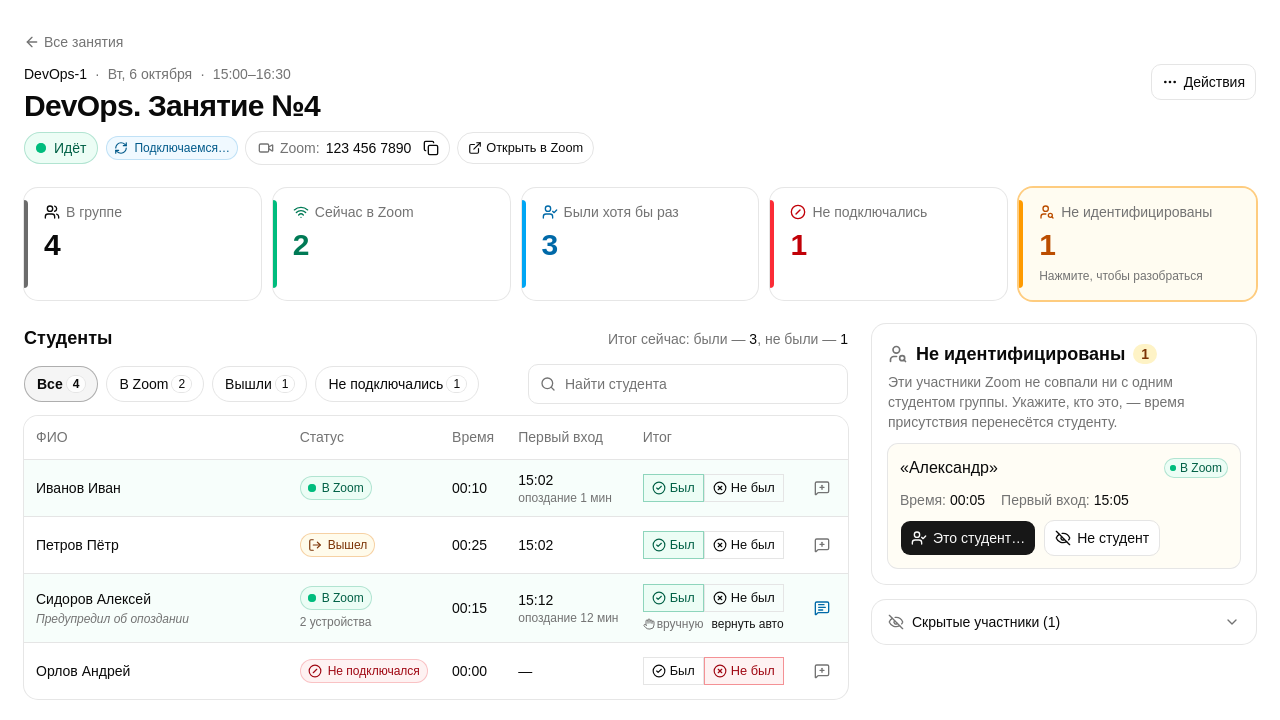
Test: LessonPage › returns a manual mark back to the automatic one
The width and height of the screenshot is (1280, 720).
Expected: the heading "DevOps. Занятие №4" is shown, [24, 89, 320, 122]
Click the button named "Вернуть автоматическую отметку: Сидоров Алексей" at (748, 624), box [712, 616, 784, 632]
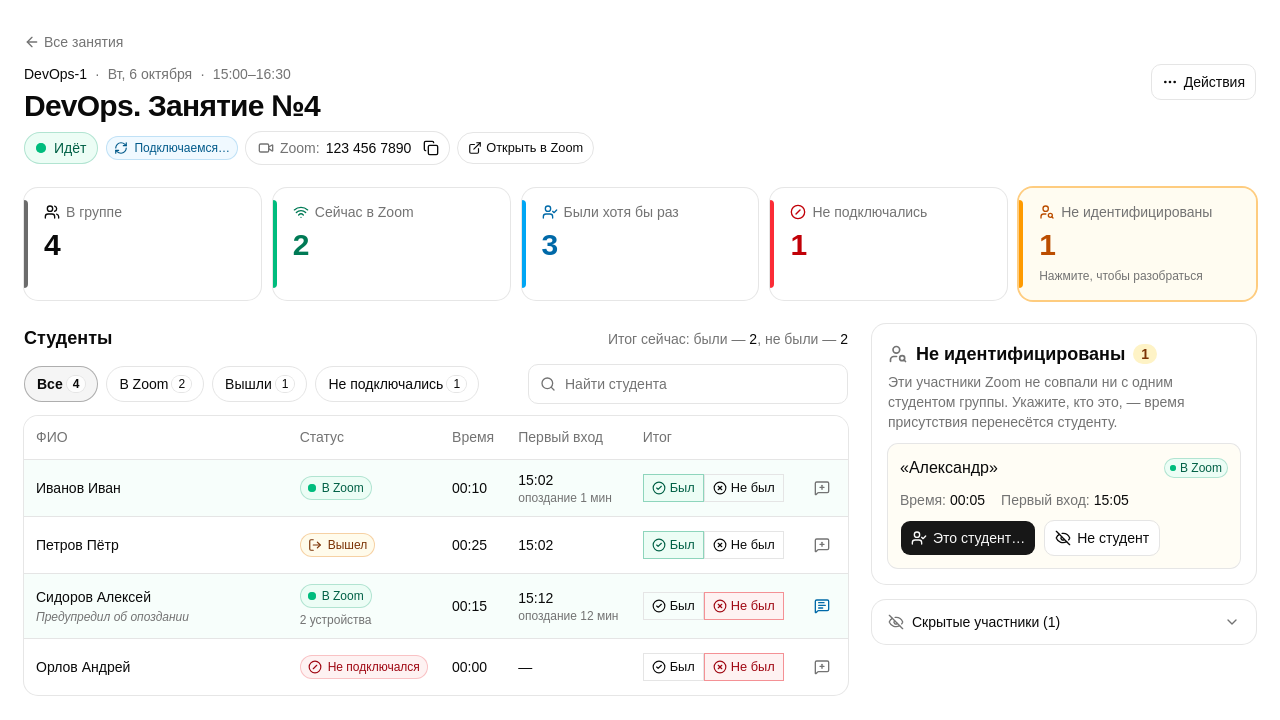
Expected: the text "вручную" is gone
